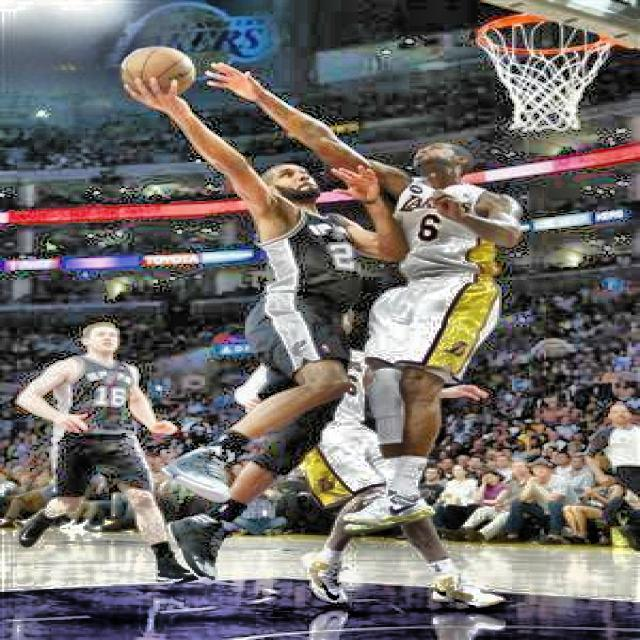board: (118, 44, 193, 92)
rim: (474, 12, 612, 132)
